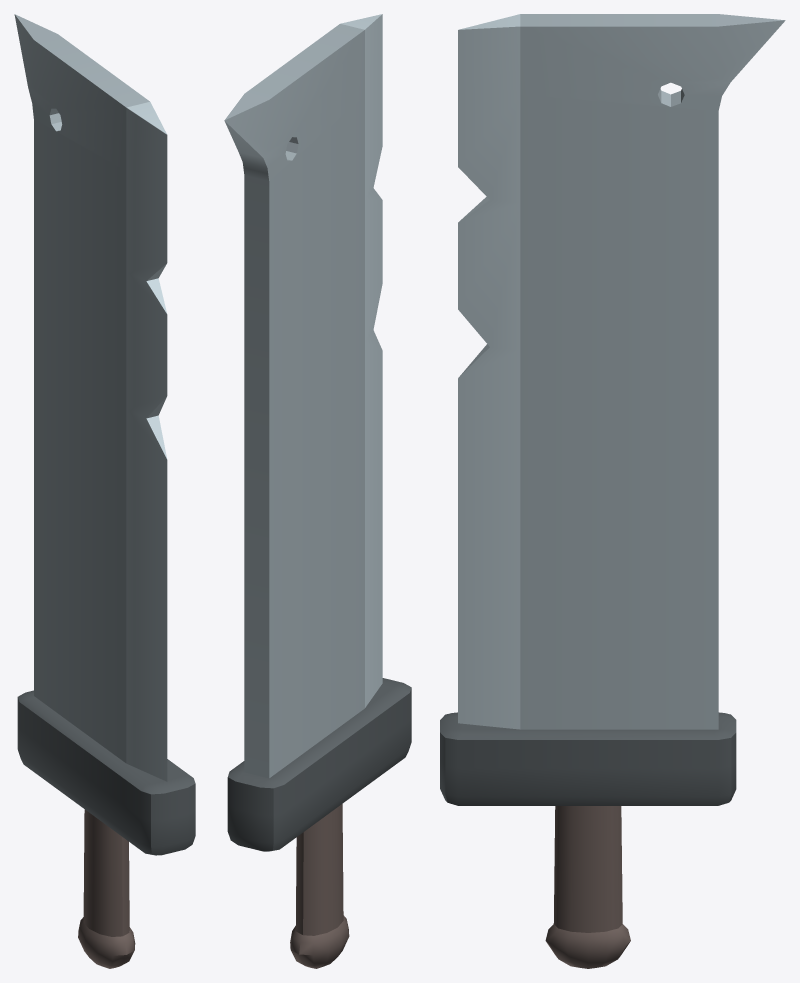
File: warriorSword.gltf.glb
3 views of the same model, side by side, from view 1: azimuth 30°, elevation 25°; view 2: azimuth 150°, elevation 25°; view 3: azimuth 270°, elevation 25° (orthographic). The views are drawn at different scales.
Visible parts, largest first — view 1: warriorSword; view 2: warriorSword; view 3: warriorSword.
Part boxes in pixels (<box>): warriorSword: <box>14,14,195,968</box>; warriorSword: <box>224,14,411,968</box>; warriorSword: <box>440,14,785,968</box>.
Size of the model in its own units: 0.1026 by 1.63 by 0.5427.
